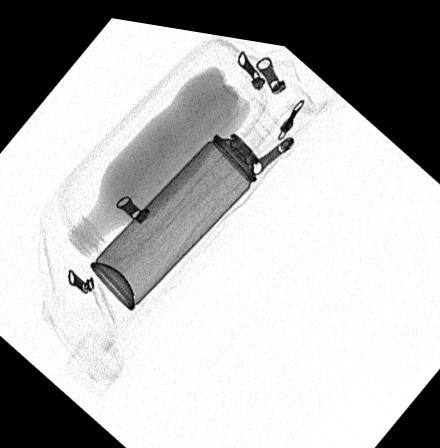Sprayer: (89, 88, 292, 306)
